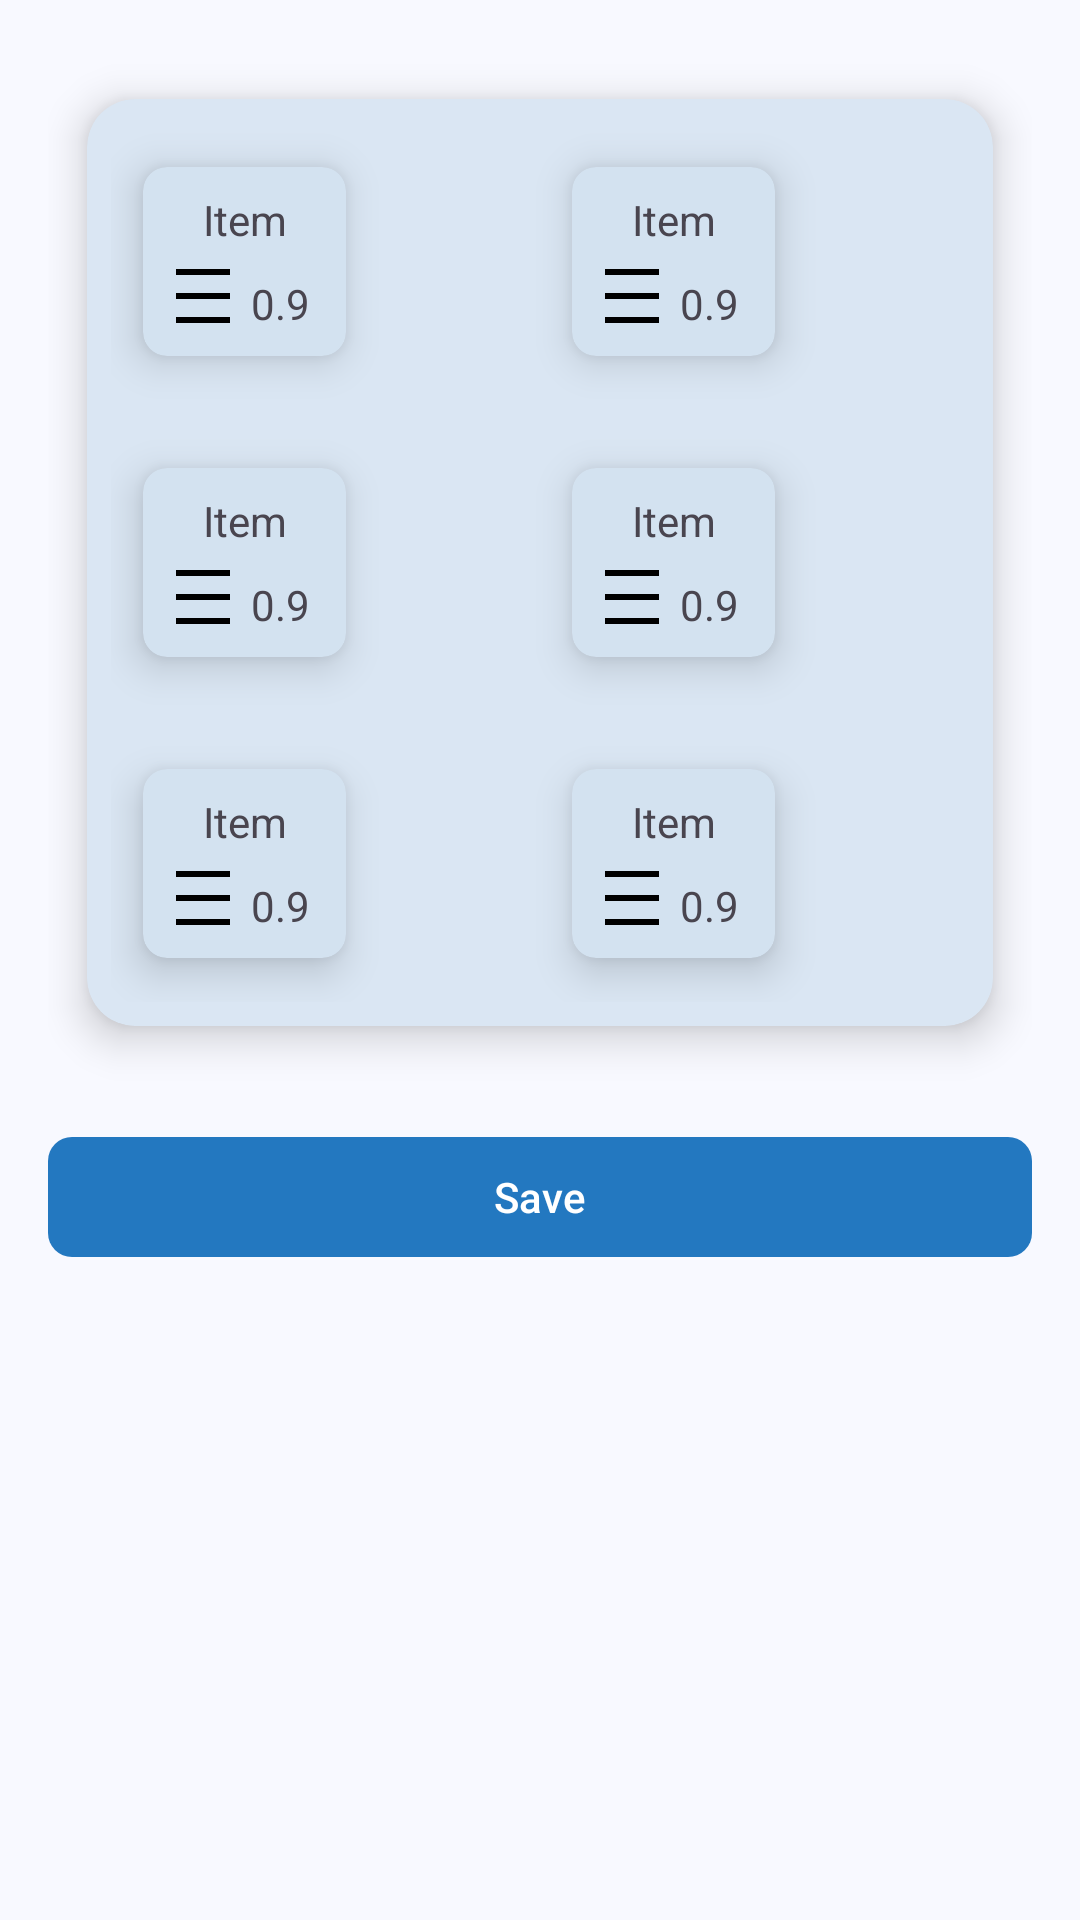

Screen size 1080x1920. Icon name, then its box in pixels as (x1, y1, x2, y2):
density medium: (176, 269, 230, 323), (605, 269, 659, 323), (176, 570, 230, 624), (605, 570, 659, 624), (176, 871, 230, 925), (605, 871, 659, 925)
